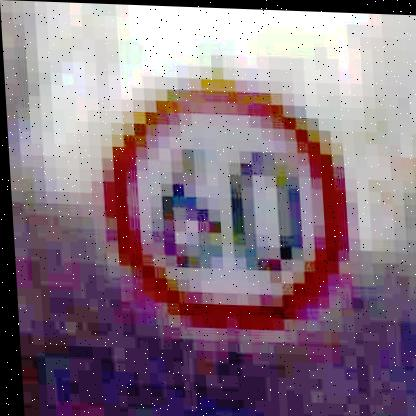Speed Limit -60-: (84, 63, 359, 332)
